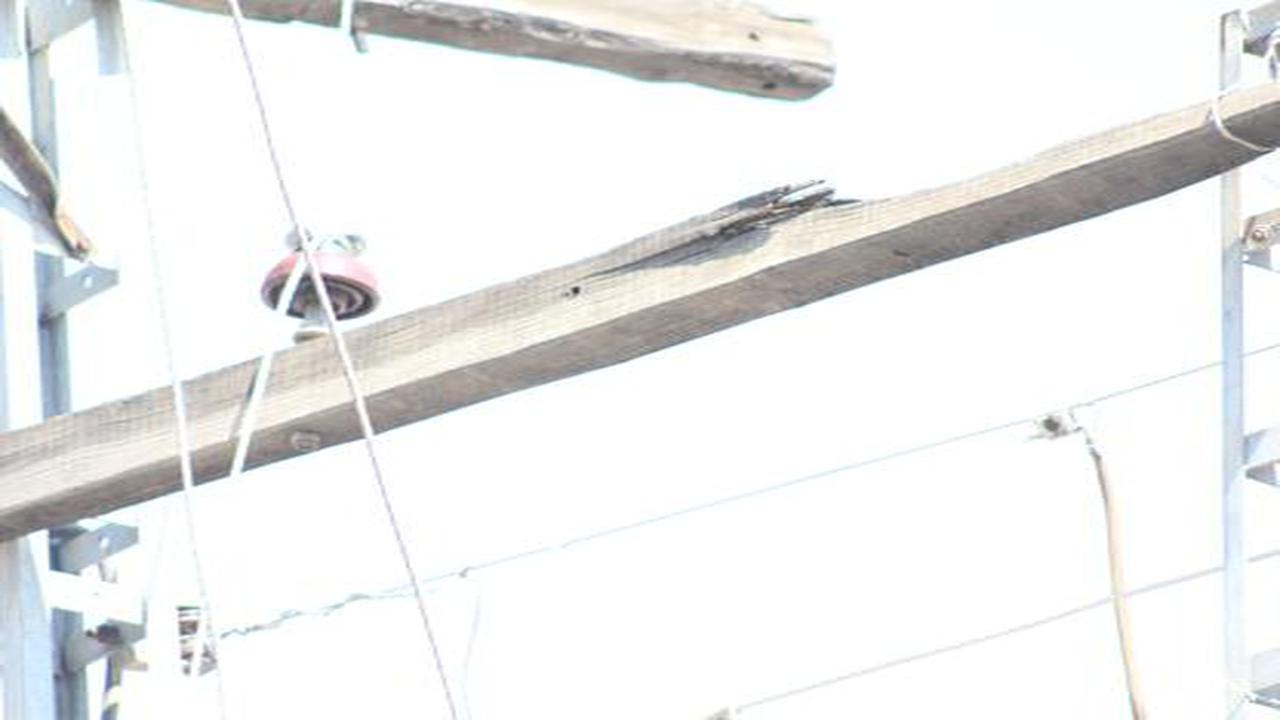insulator_pin: (258, 224, 385, 322)
